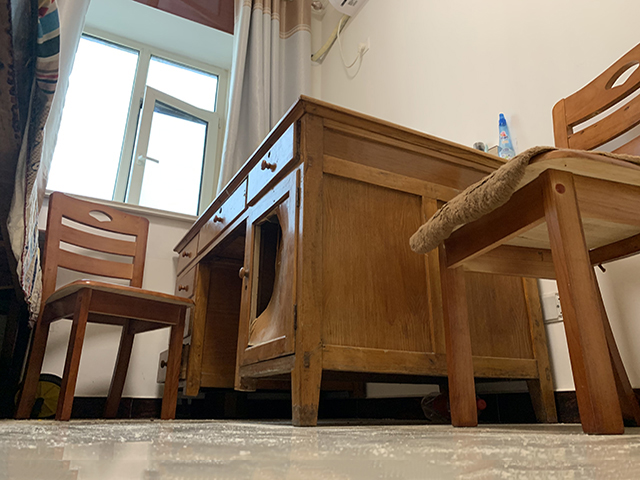stool: (408, 42, 640, 437), (13, 190, 197, 422)
table: (158, 93, 564, 430)
